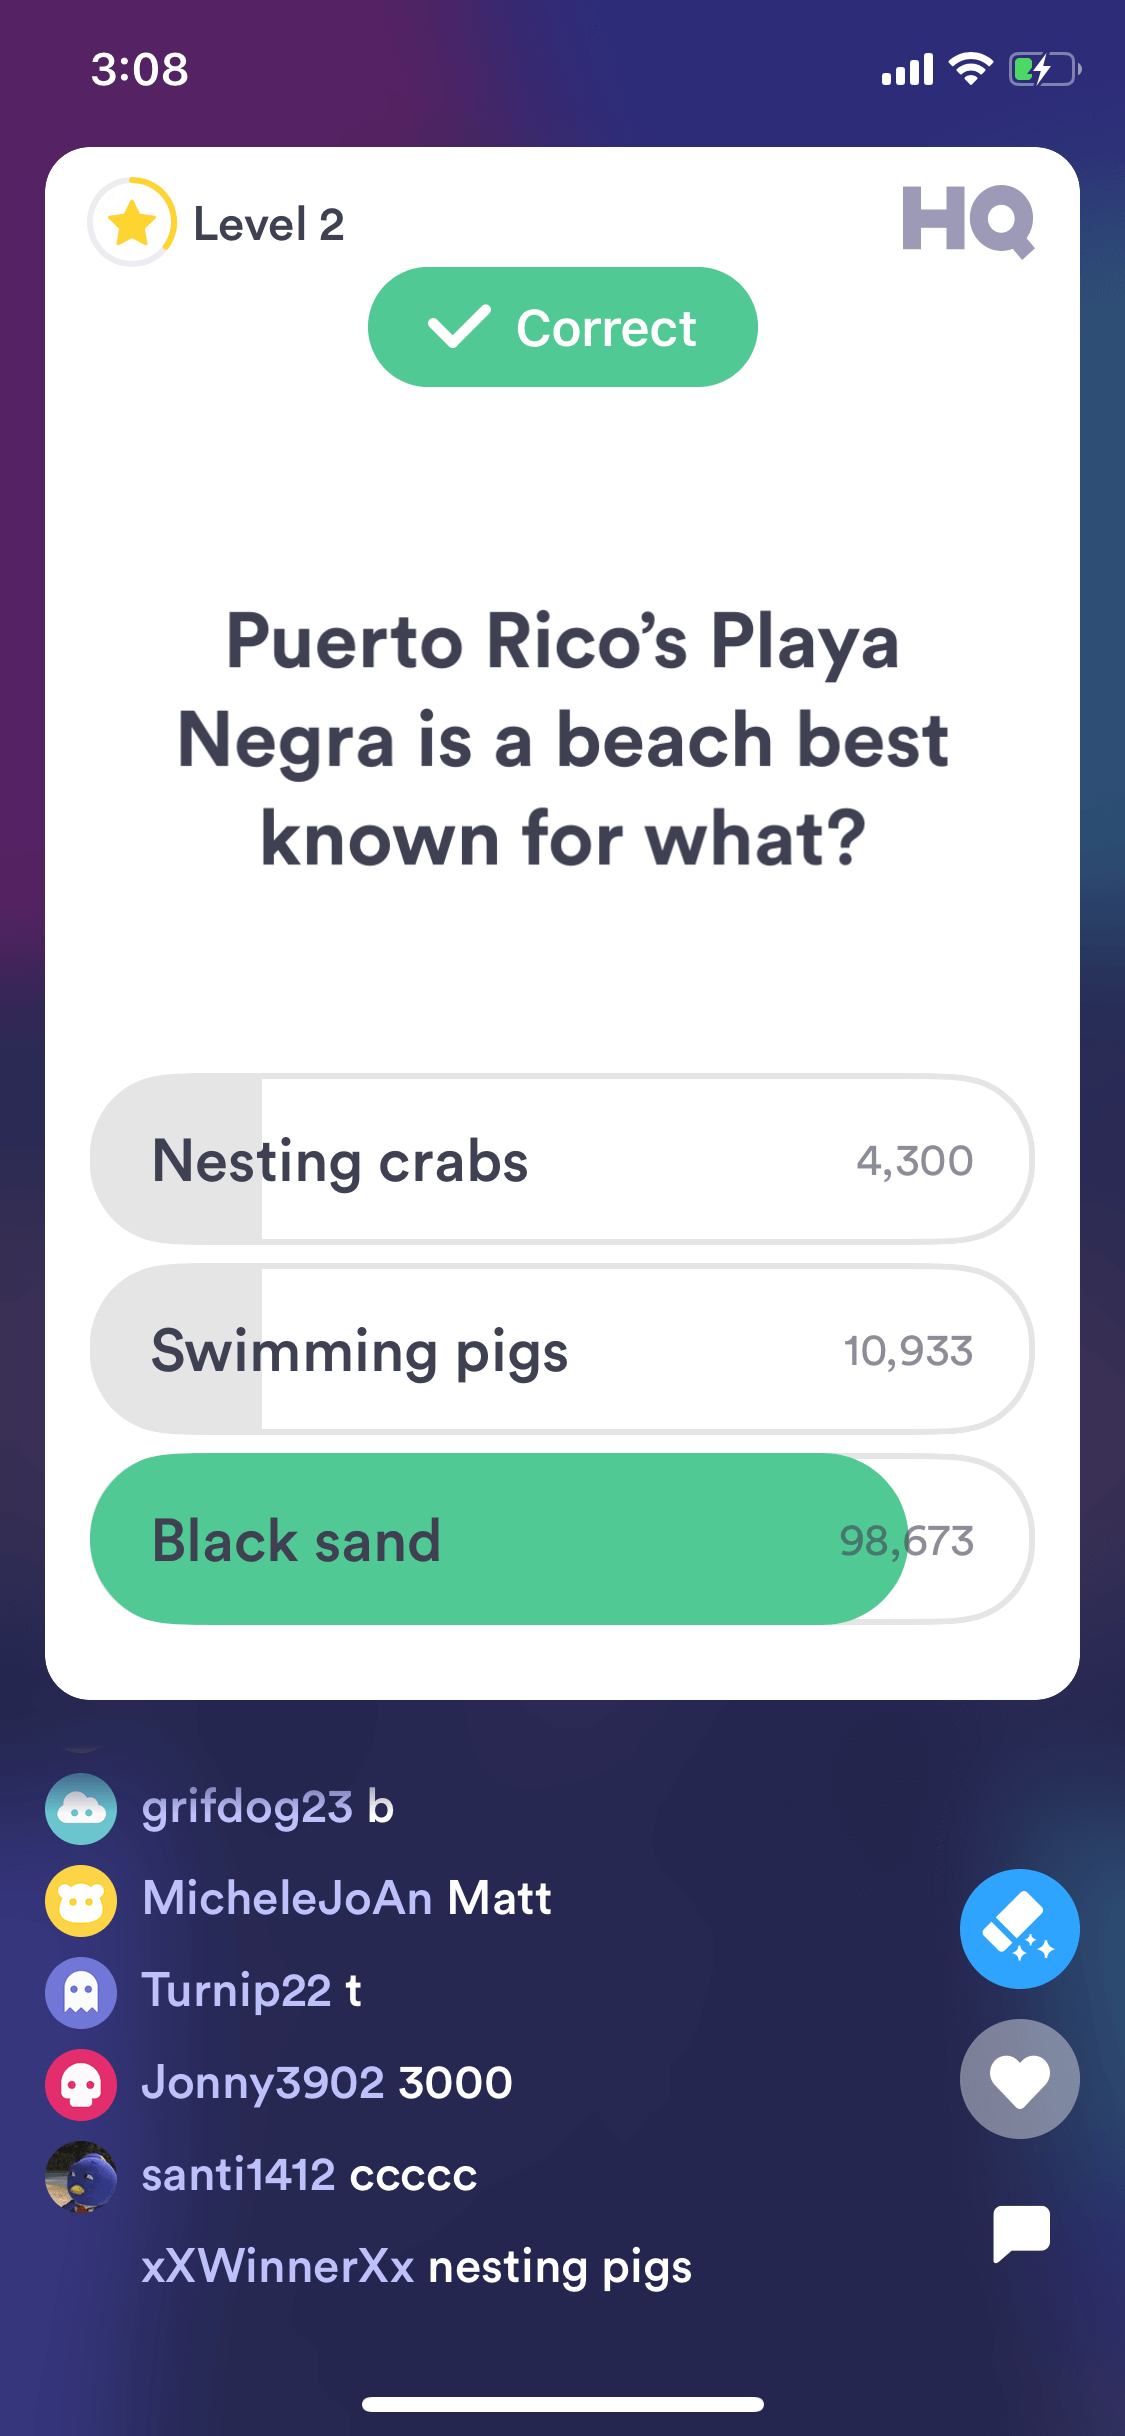Buttons: (360, 258, 771, 395)
FAB (Floating Action Button): (946, 2010, 1095, 2145), (948, 1857, 1092, 1992), (946, 2173, 1094, 2296)
